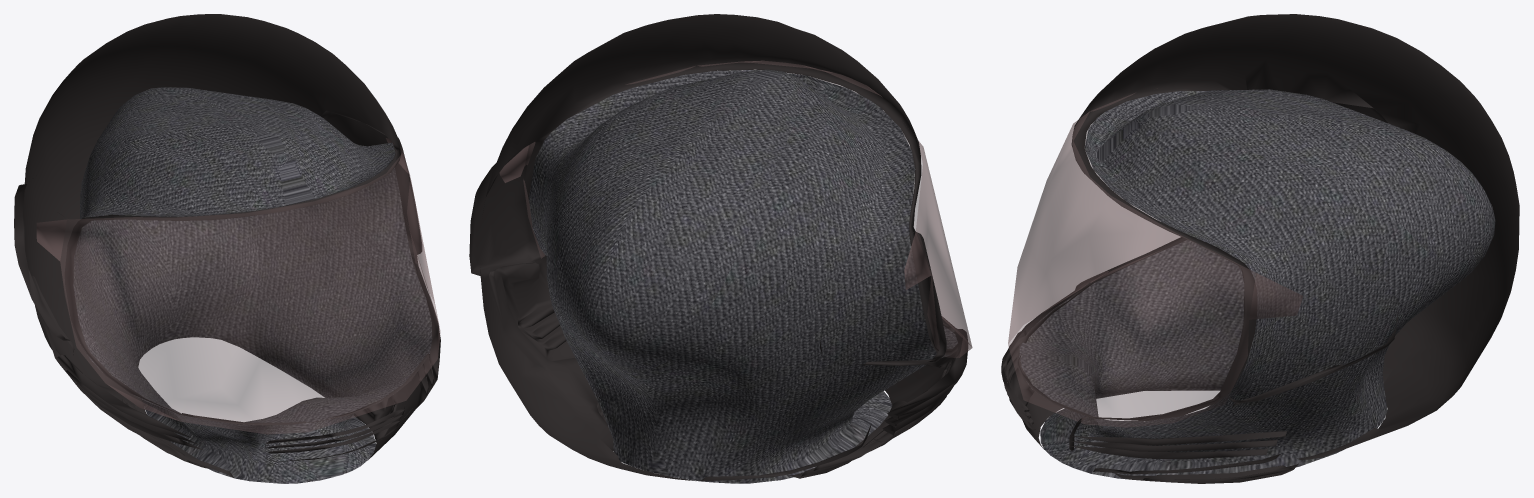
The model's file is fullface.glb.
The picture shows the model from 3 angles, left to right: view 1: azimuth 30°, elevation 25°; view 2: azimuth 150°, elevation 25°; view 3: azimuth 270°, elevation 25°; orthographic projection. The views are drawn at different scales.
Parts seen in each view (by area): view 1: Sphere.004, Sphere.001, Sphere; view 2: Sphere.004, Sphere, Sphere.001; view 3: Sphere.004, Sphere, Sphere.001.
Boxes of the visible parts, x1,y1,x2,y2 form: Sphere.004: (73, 87, 432, 483); Sphere.001: (36, 138, 440, 434); Sphere: (14, 14, 440, 477); Sphere.004: (529, 69, 957, 483); Sphere: (469, 14, 967, 481); Sphere.001: (499, 60, 972, 357); Sphere.004: (1019, 89, 1495, 479); Sphere: (1001, 14, 1519, 483); Sphere.001: (1008, 93, 1302, 427).
Bounding box in the file's own units: 8.5 × 8.12 × 9.53.
3 materials, 1 textured.
